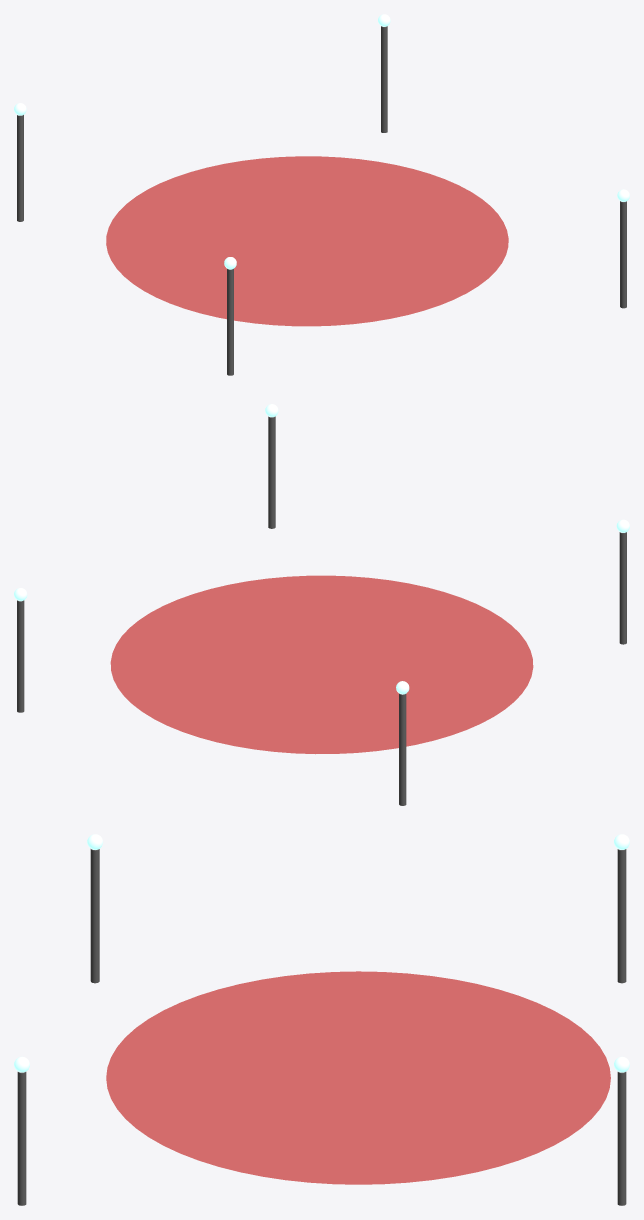
Rendered from redzone.glb.
3 views of the same model, one above another, from view 1: azimuth 30°, elevation 25°; view 2: azimuth 150°, elevation 25°; view 3: azimuth 270°, elevation 25° (orthographic). The views are drawn at different scales.
Size of the model in its own units: 7.42 by 2.21 by 8.42.
